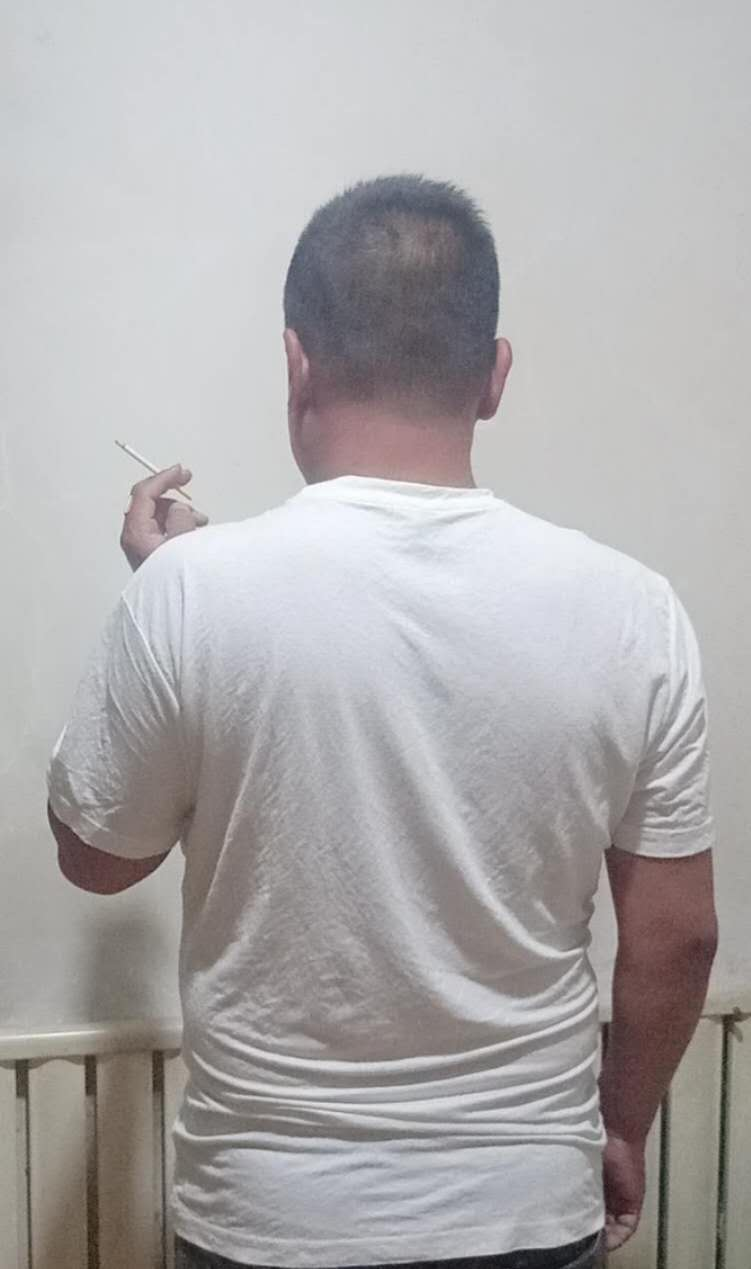smoke: (110, 438, 195, 504)
